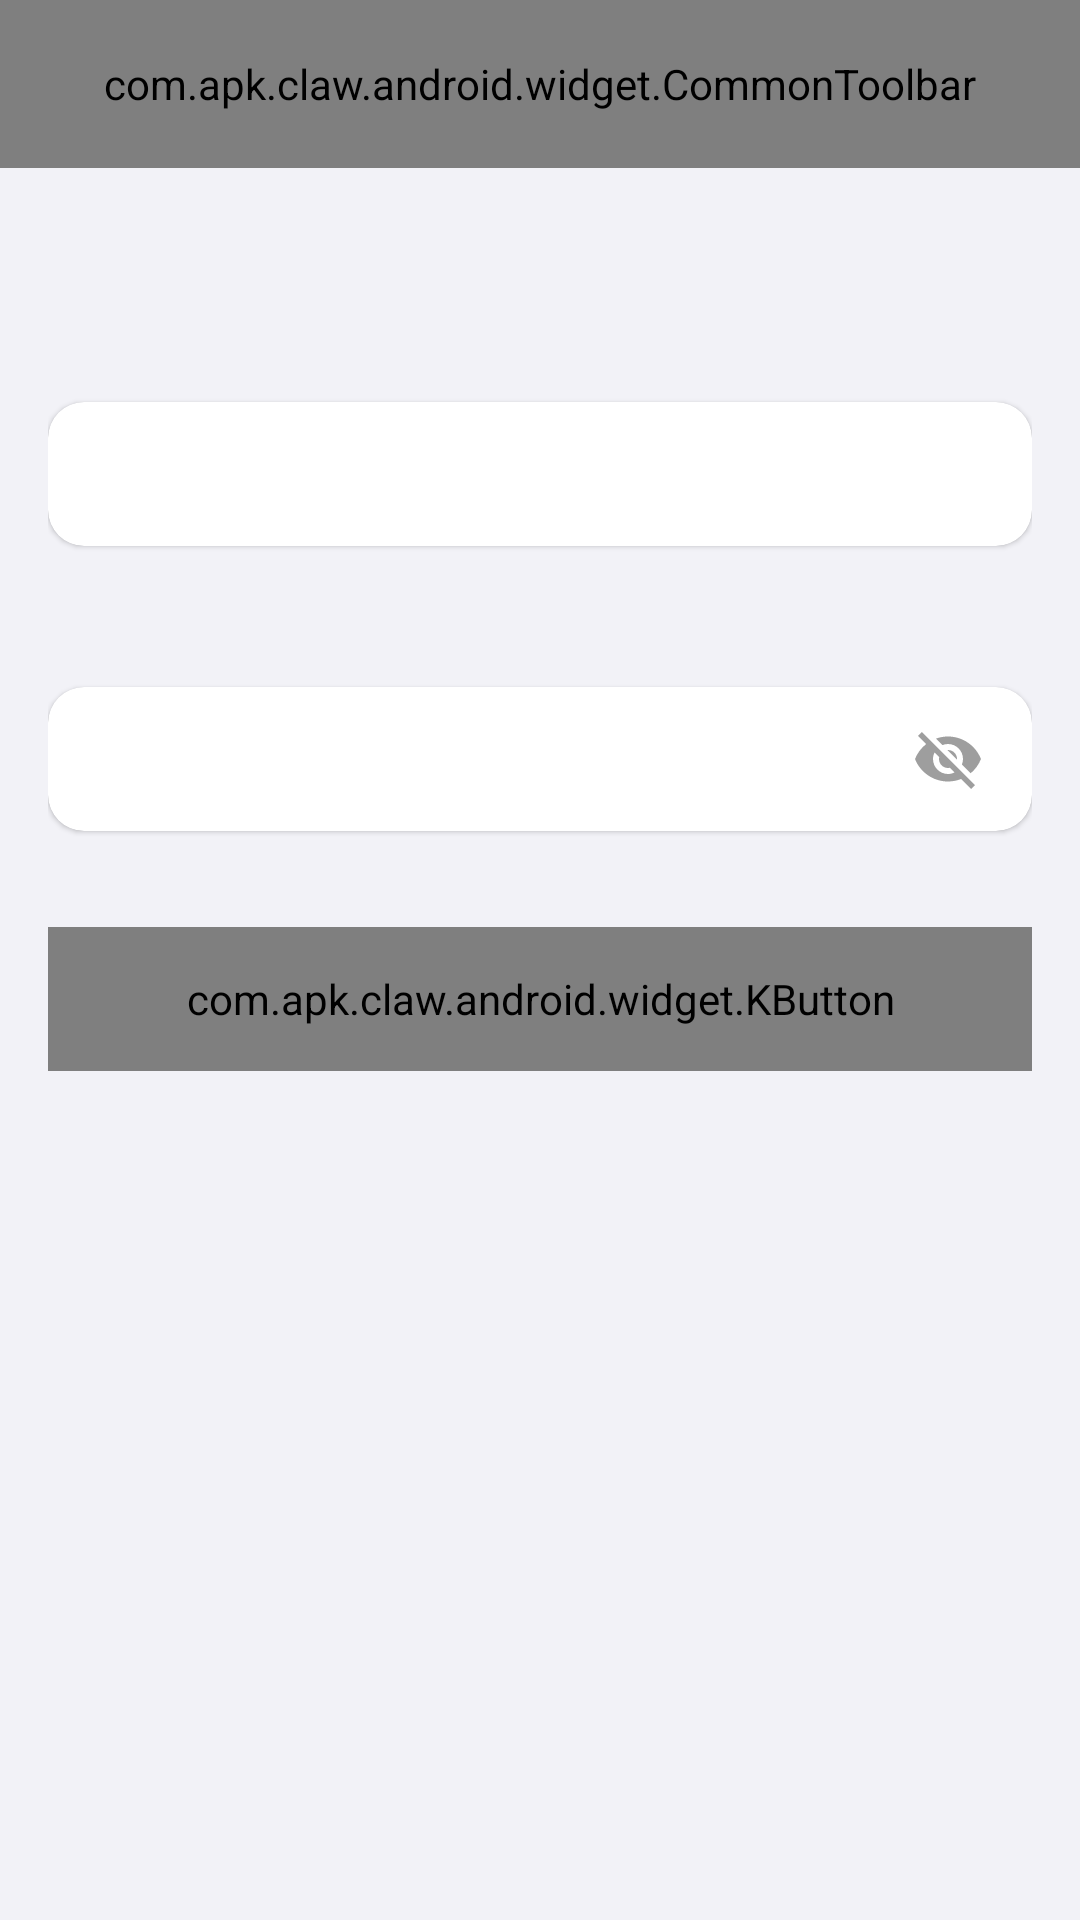

Screen size 1080*1920. Icon name, then its center in pixels as point (x, y):
visibility off: point (948, 760)
